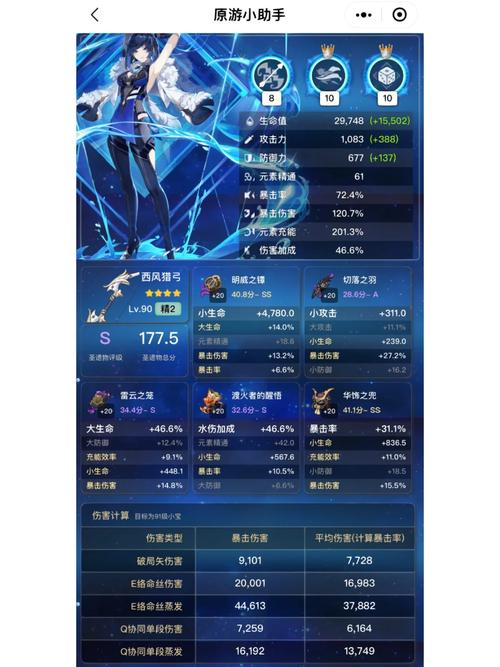夜兰: (93, 34, 206, 261)
